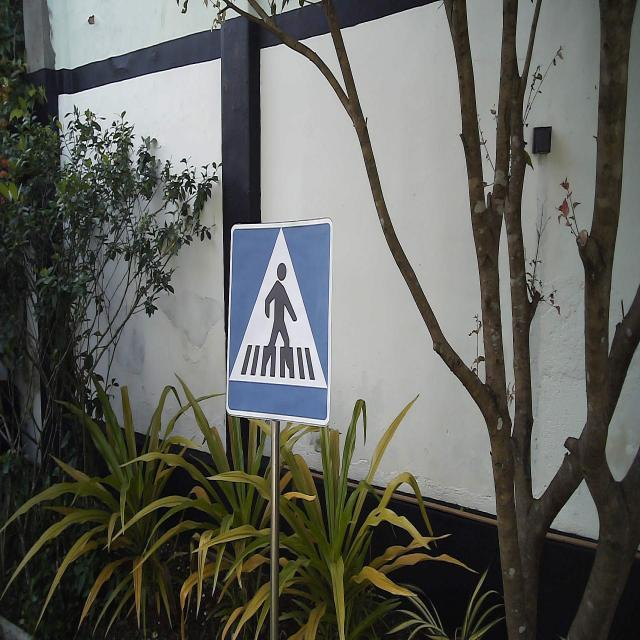crosswalk_sign: (224, 215, 336, 430)
